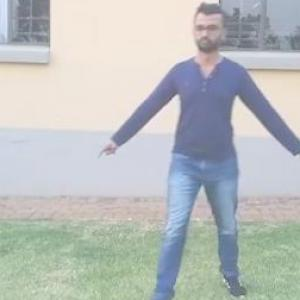land: (118, 4, 299, 290)
